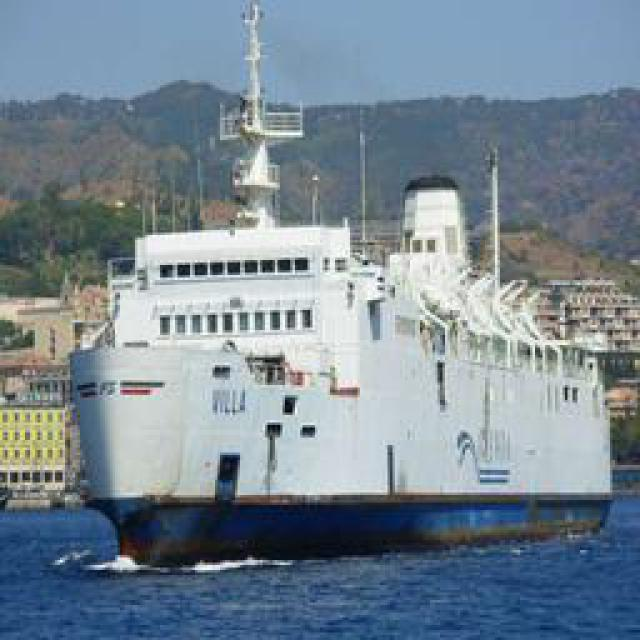Ship: (73, 140, 628, 543)
